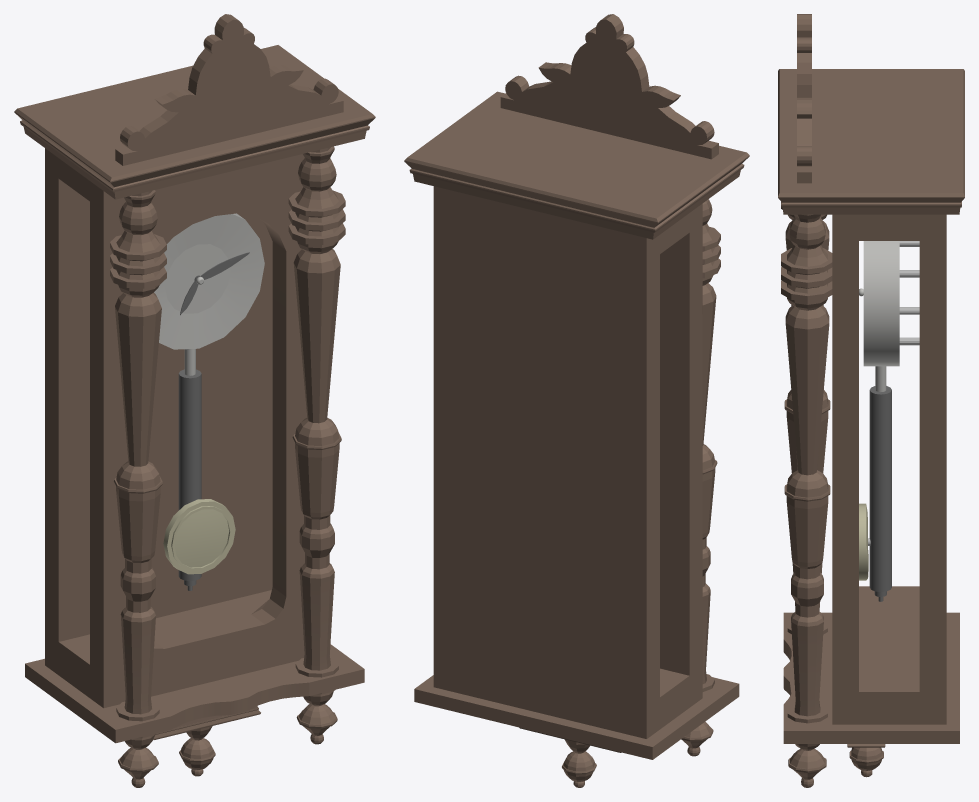
File: reloj pared.glb
The picture shows the model from 3 angles, left to right: view 1: azimuth 30°, elevation 25°; view 2: azimuth 150°, elevation 25°; view 3: azimuth 270°, elevation 25°; orthographic projection. The views are drawn at different scales.
Visible parts, largest first — view 1: WallClock_Low; view 2: WallClock_Low; view 3: WallClock_Low.
Boxes of the visible parts, x1,y1,x2,y2 form: WallClock_Low: (14,14,375,787); WallClock_Low: (404,14,749,787); WallClock_Low: (778,14,964,787).
Size of the model in its own units: 3.82 by 10.77 by 2.4.
